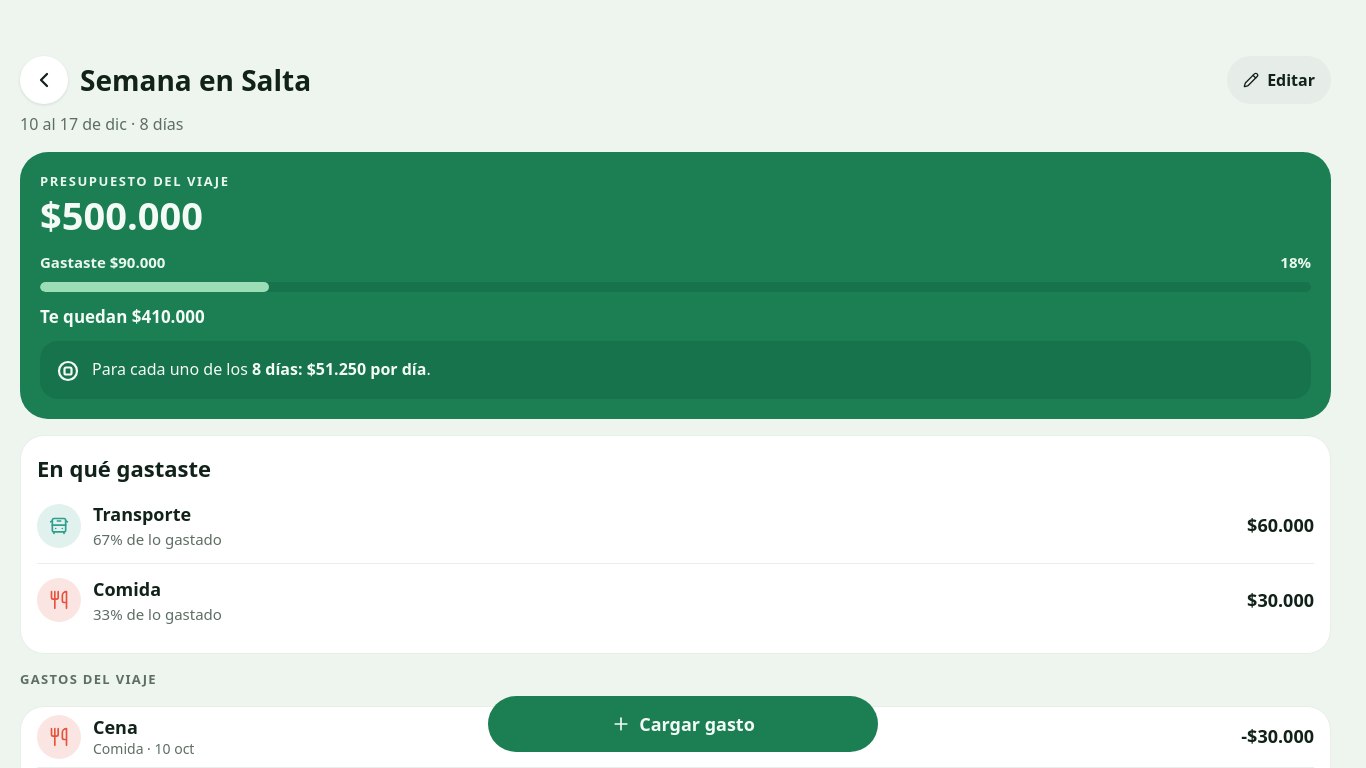
Scenario: PersonalTripPage › editing validates like creating and saves nothing when something is missing
Click the button "Editar" at (1279, 80), box [1227,56,1331,104]
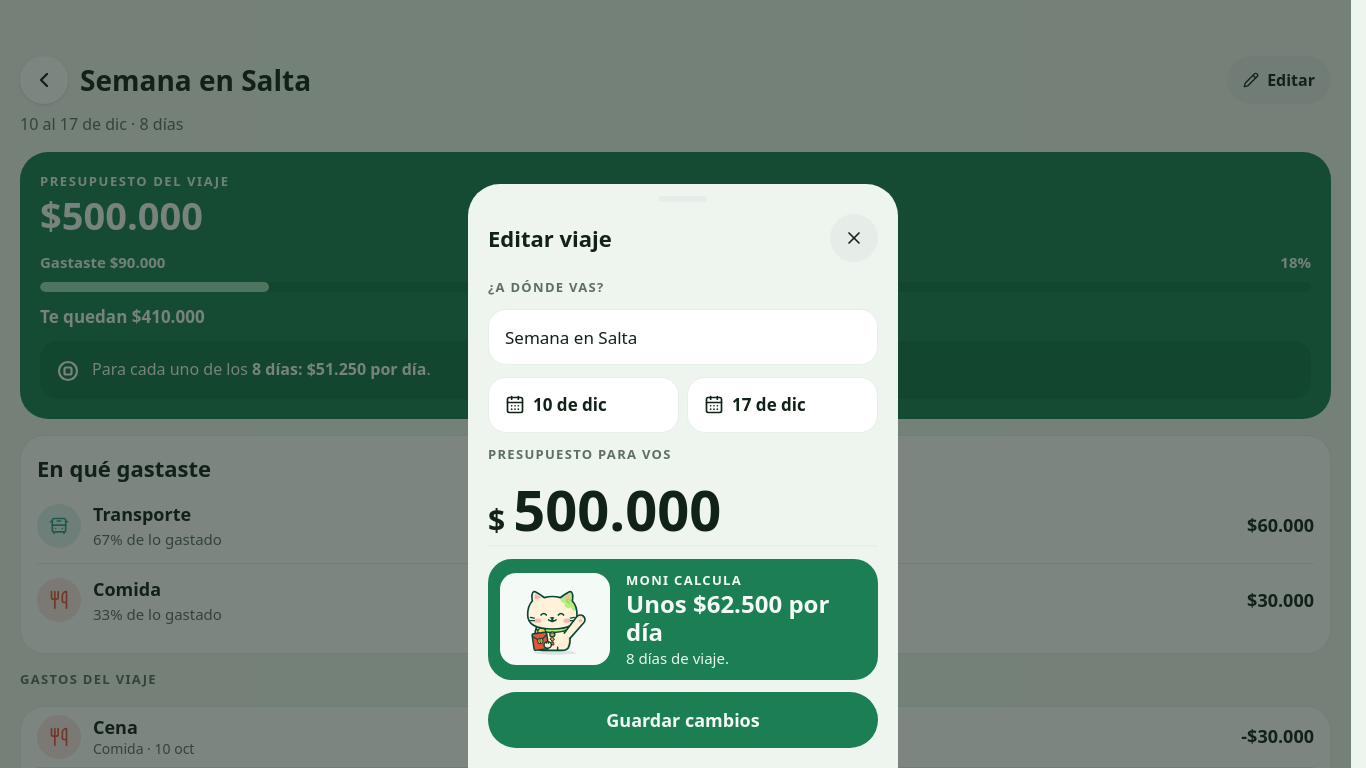
Clear the field named "Destino" at (683, 337), box [488,309,878,365]
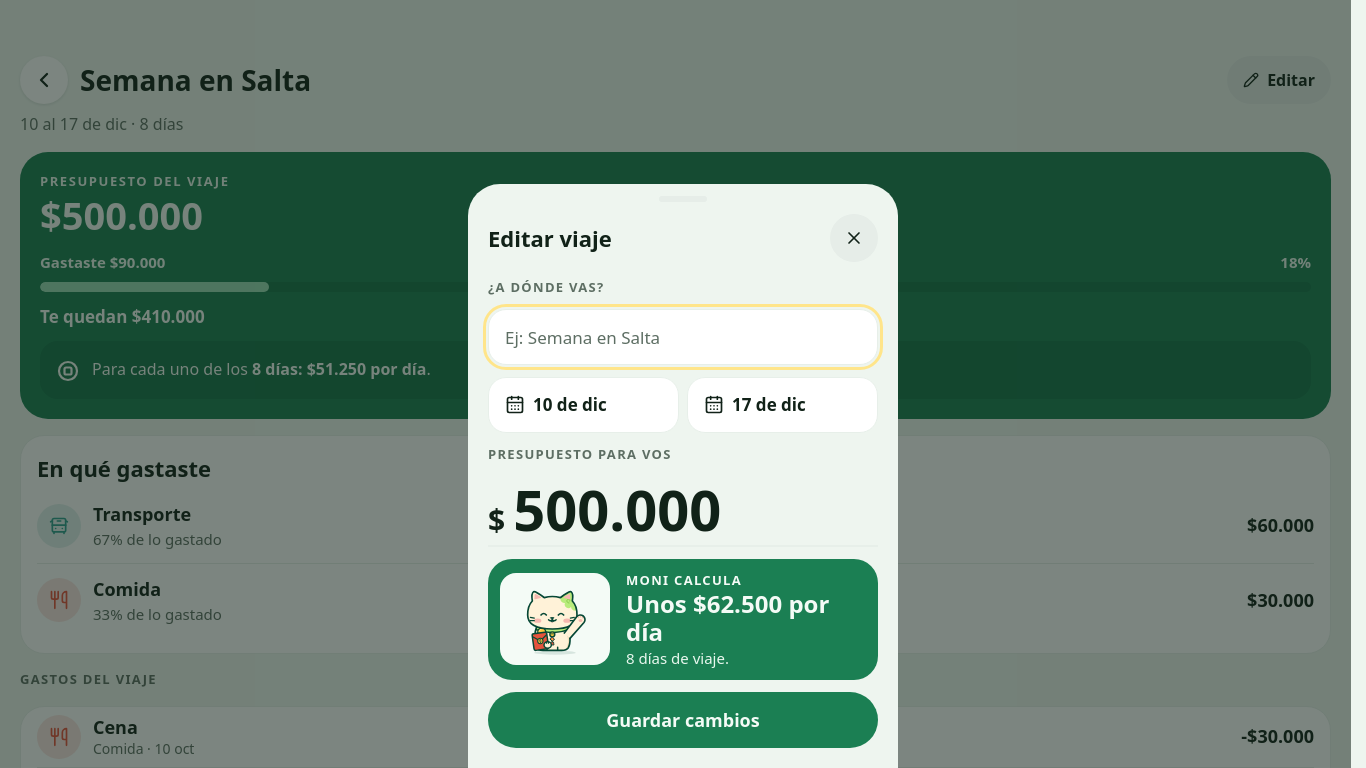
Click the button "Guardar cambios" at (683, 720), box [488,692,878,748]
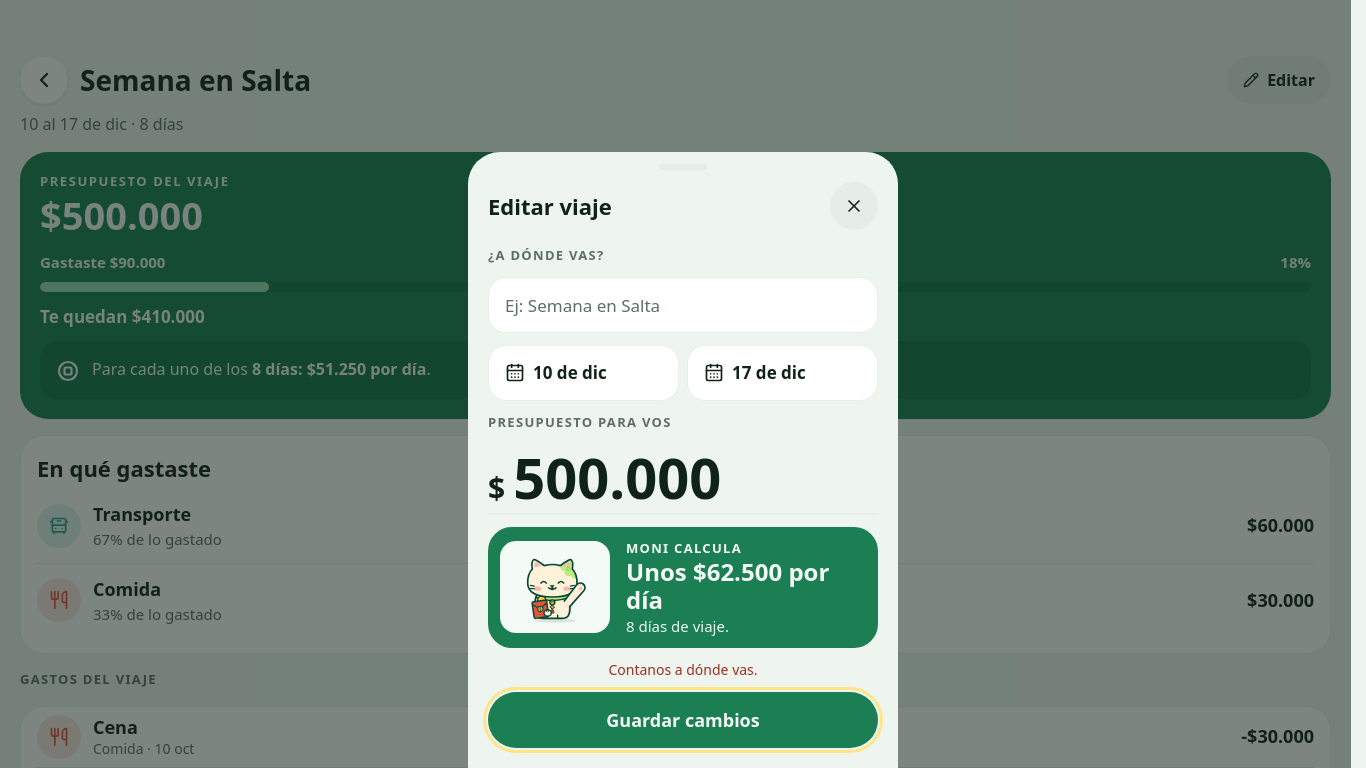
Result: the message reads "Contanos a dónde vas." at [608,660,758,679]
